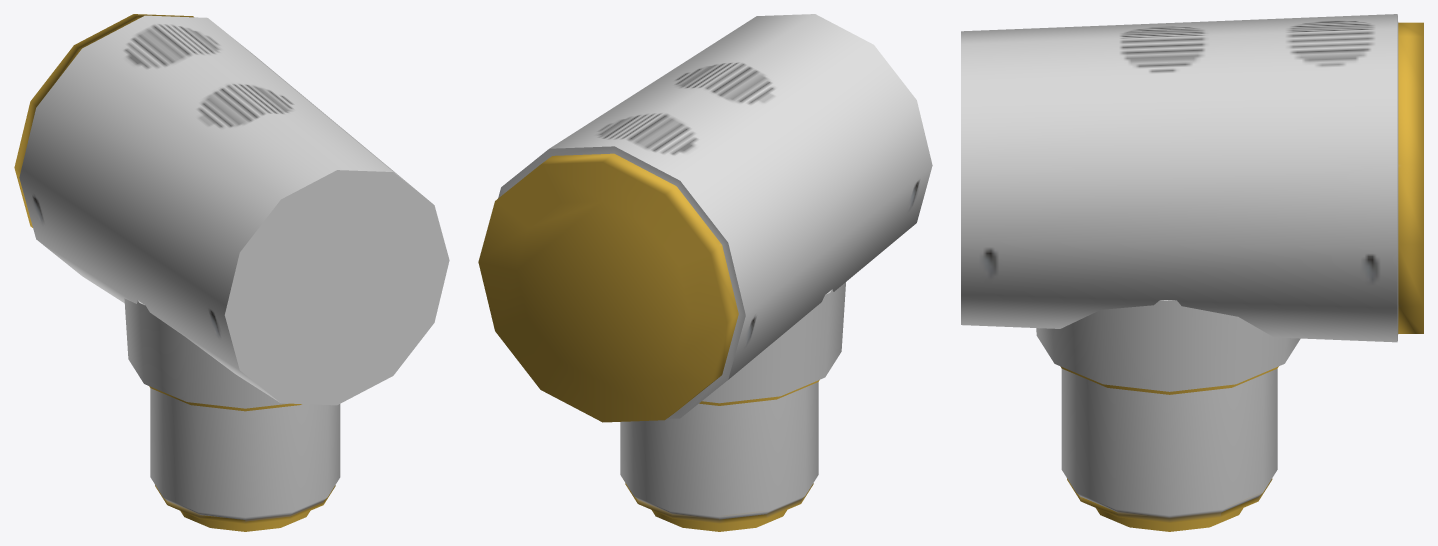
Rendered from link_torso.glb.
3 views of the same model, side by side, from view 1: azimuth 30°, elevation 25°; view 2: azimuth 150°, elevation 25°; view 3: azimuth 270°, elevation 25° (orthographic). The views are drawn at different scales.
Visible parts, largest first — view 1: link_torso.3obj; view 2: link_torso.3obj; view 3: link_torso.3obj.
Part boxes in pixels (x1,y1,x2,y2): link_torso.3obj: (14, 14, 449, 531); link_torso.3obj: (478, 14, 932, 531); link_torso.3obj: (961, 14, 1423, 531).
Bounding box in the file's own units: 0.1566 × 0.2459 × 0.2198.
1 material, 1 textured.
